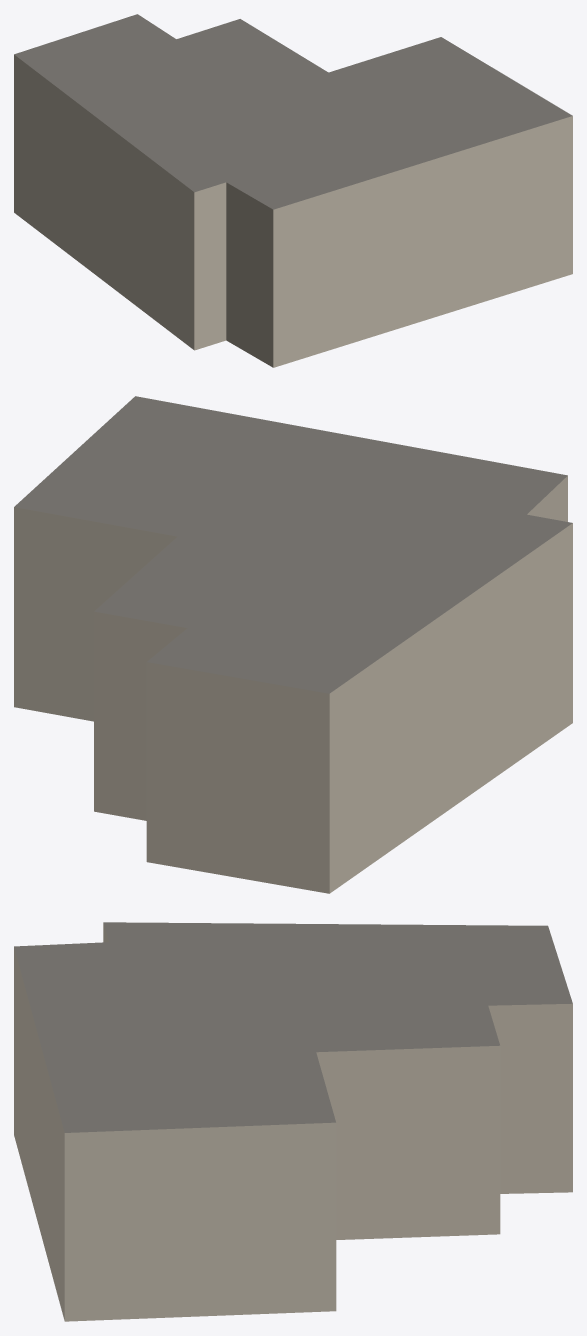
3 renders of one model, top to bottom at view 1: azimuth 30°, elevation 25°; view 2: azimuth 150°, elevation 25°; view 3: azimuth 270°, elevation 25°, orthographic. The views are drawn at different scales.
Parts seen in each view (by area): view 1: HP-w1197245616; view 2: HP-w1197245616; view 3: HP-w1197245616.
Part boxes in pixels (bbox=[...]): HP-w1197245616: bbox=[14, 14, 572, 367]; HP-w1197245616: bbox=[14, 396, 572, 893]; HP-w1197245616: bbox=[14, 922, 572, 1321].
Bounding box in the file's own units: 43.14 × 18 × 48.35.
